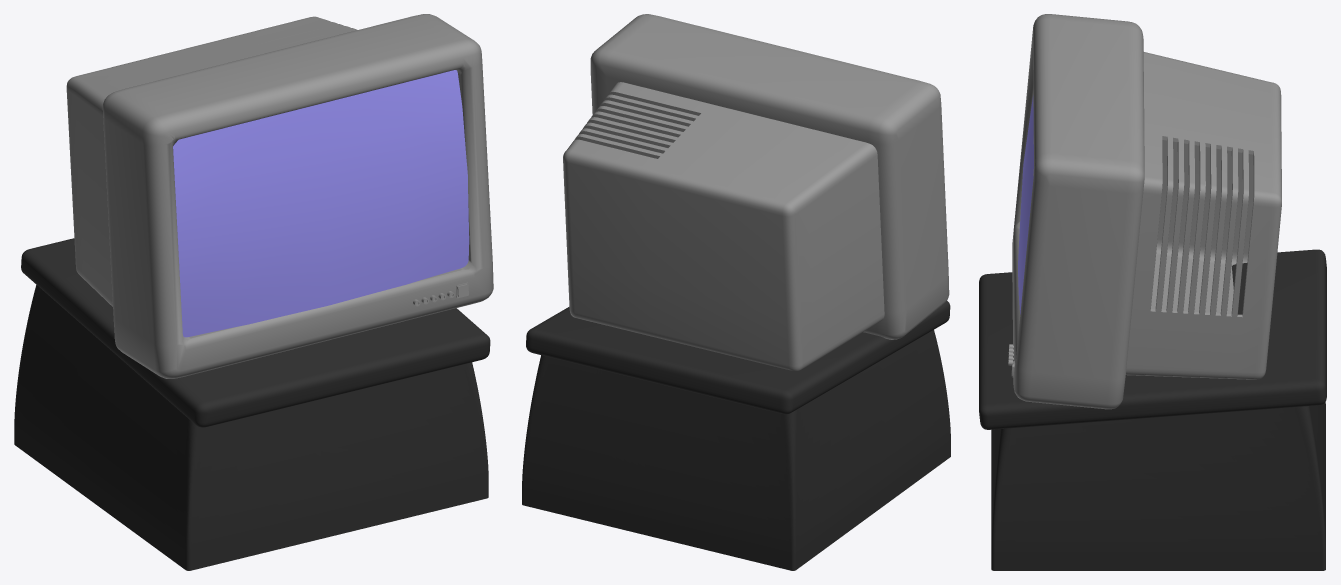
The model's file is Artisan_computer.FBX.
3 views of the same model, side by side, from view 1: azimuth 30°, elevation 25°; view 2: azimuth 150°, elevation 25°; view 3: azimuth 270°, elevation 25° (orthographic). The views are drawn at different scales.
Parts seen in each view (by area): view 1: Monitor1, _STL_BINARY_001, Box002; view 2: Monitor1, _STL_BINARY_001, Box002; view 3: Monitor1, _STL_BINARY_001, Box002.
Part boxes in pixels (x1,y1,x2,y2): Monitor1: [66, 14, 493, 378]; _STL_BINARY_001: [14, 285, 488, 570]; Box002: [21, 238, 490, 427]; Monitor1: [563, 14, 949, 370]; _STL_BINARY_001: [522, 330, 950, 570]; Box002: [526, 301, 950, 414]; Monitor1: [1008, 14, 1281, 409]; _STL_BINARY_001: [991, 402, 1325, 570]; Box002: [979, 249, 1326, 429].
Size of the model in its own units: 20.57 by 24.97 by 18.91.
